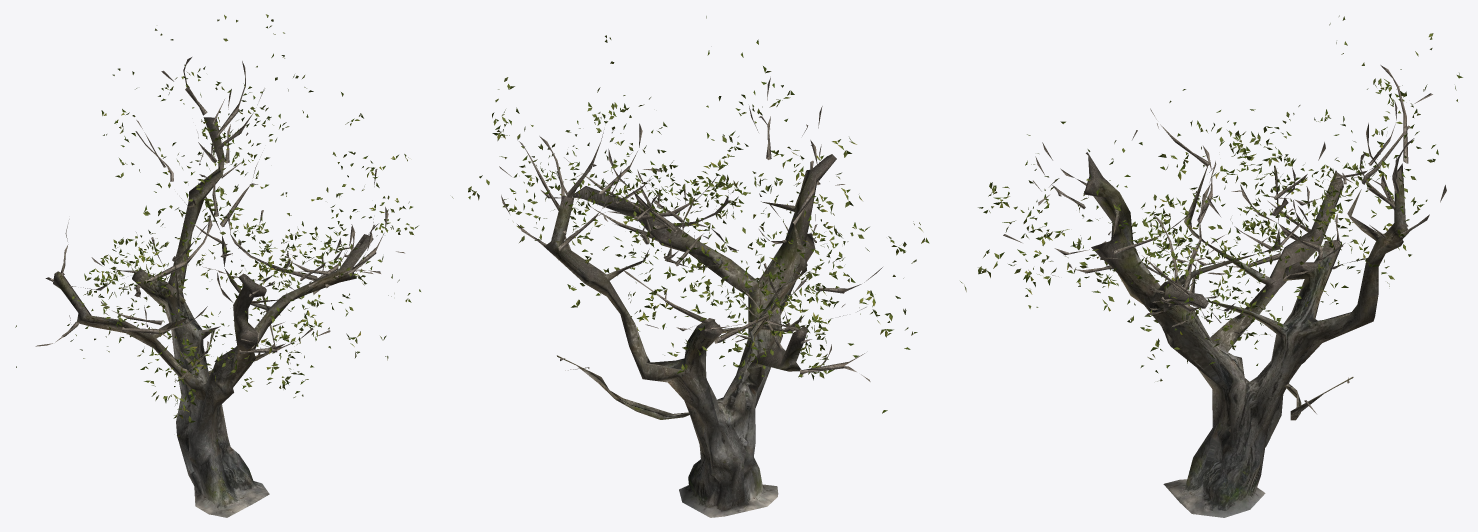
Rendered from island_tree_01.glb.
3 renders of one model, left to right at view 1: azimuth 30°, elevation 25°; view 2: azimuth 150°, elevation 25°; view 3: azimuth 270°, elevation 25°, orthographic. The views are drawn at different scales.
Parts seen in each view (by area): view 1: island_tree_01_LOD0; view 2: island_tree_01_LOD0; view 3: island_tree_01_LOD0.
Part boxes in pixels (box(x1,y1,x2,y2)): island_tree_01_LOD0: box(15, 14, 420, 517); island_tree_01_LOD0: box(452, 16, 929, 517); island_tree_01_LOD0: box(960, 15, 1462, 517).
Bounding box in the file's own units: 4.6 × 4.95 × 4.42.
3 materials, 3 textured.
